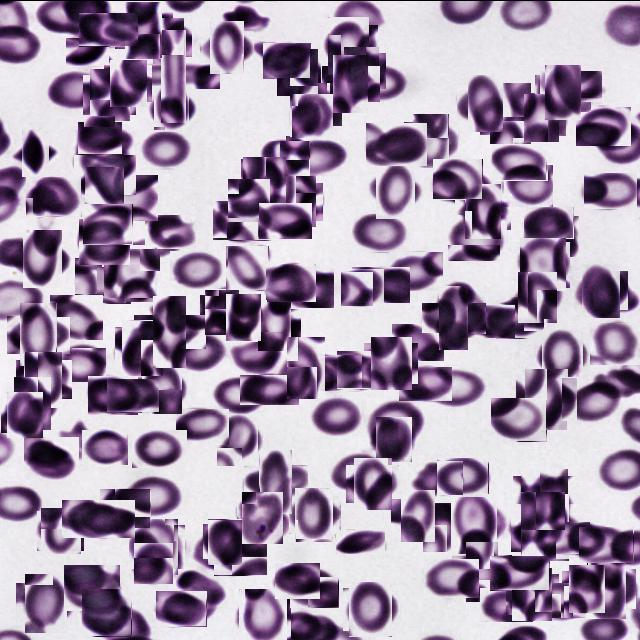red blood cell: (144, 46, 204, 104), (516, 498, 574, 556), (89, 174, 158, 220), (516, 471, 572, 527), (446, 496, 501, 552), (562, 376, 628, 420), (106, 246, 159, 299), (144, 304, 196, 358), (62, 499, 135, 537), (448, 214, 508, 260), (366, 122, 428, 166), (520, 372, 572, 424), (484, 86, 536, 138), (121, 474, 182, 518), (20, 578, 72, 628), (237, 590, 289, 640), (75, 257, 131, 303), (64, 564, 120, 610), (80, 148, 130, 199), (286, 135, 349, 175), (582, 563, 632, 613), (14, 308, 64, 358), (518, 239, 568, 289), (324, 20, 374, 70), (132, 521, 182, 571), (281, 342, 331, 392), (367, 400, 423, 444), (491, 397, 547, 441), (346, 584, 396, 633), (118, 322, 167, 372), (213, 200, 274, 240), (50, 292, 103, 338), (24, 434, 79, 478), (252, 456, 300, 506), (18, 234, 68, 282), (82, 588, 132, 636), (19, 354, 68, 402), (79, 218, 130, 264), (367, 338, 415, 386), (523, 215, 579, 256), (211, 376, 271, 414), (352, 213, 410, 252), (538, 332, 586, 379), (371, 166, 419, 213), (458, 547, 506, 594), (120, 6, 168, 53), (424, 368, 484, 405), (214, 416, 261, 463), (509, 570, 556, 617), (430, 294, 478, 340), (556, 521, 614, 559), (26, 176, 81, 216), (279, 267, 334, 307), (173, 330, 228, 370), (576, 104, 631, 144), (387, 251, 443, 290), (422, 558, 478, 597), (290, 491, 337, 537), (310, 394, 364, 434), (230, 332, 284, 372), (79, 126, 133, 166), (170, 250, 226, 288), (139, 365, 185, 411), (408, 116, 454, 162), (460, 188, 506, 234), (86, 71, 132, 117), (242, 157, 288, 203), (578, 266, 624, 312), (514, 274, 560, 320), (350, 460, 396, 506), (540, 69, 586, 115), (462, 79, 508, 125), (328, 60, 374, 106), (590, 322, 640, 364), (502, 164, 552, 206), (490, 555, 550, 590), (336, 350, 391, 388), (352, 266, 410, 302), (437, 457, 489, 497), (10, 379, 55, 425), (140, 130, 194, 168), (132, 429, 186, 467), (83, 203, 133, 244), (433, 158, 483, 199), (100, 488, 151, 528), (79, 12, 139, 46), (579, 526, 634, 563), (49, 72, 107, 107), (276, 48, 320, 94), (540, 70, 603, 102), (496, 296, 544, 338), (492, 144, 547, 180), (457, 302, 515, 336), (330, 455, 383, 492), (305, 355, 361, 390), (352, 65, 408, 100), (88, 375, 138, 414), (174, 408, 228, 444), (582, 172, 636, 208), (205, 25, 249, 69), (420, 505, 464, 549), (276, 178, 320, 222), (38, 508, 82, 552), (298, 81, 342, 125), (226, 245, 269, 290), (392, 323, 444, 360), (290, 568, 339, 607), (259, 202, 312, 238), (260, 140, 310, 178), (266, 263, 316, 301), (214, 540, 268, 575), (253, 303, 296, 346), (291, 94, 334, 137), (106, 62, 150, 104), (156, 590, 207, 626), (396, 494, 439, 536), (399, 366, 452, 400), (480, 587, 533, 621), (107, 378, 160, 412), (240, 374, 299, 404), (446, 171, 495, 207), (341, 49, 383, 91), (566, 567, 608, 609), (521, 96, 563, 138), (145, 214, 196, 248), (412, 460, 463, 494), (538, 582, 586, 618), (263, 42, 311, 78), (4, 393, 45, 435), (222, 296, 264, 337), (228, 178, 271, 218), (82, 428, 129, 464), (522, 490, 564, 530), (134, 542, 174, 584), (341, 268, 385, 306), (374, 418, 414, 459), (58, 347, 106, 381), (275, 562, 320, 598), (202, 292, 242, 332), (152, 88, 192, 128), (524, 206, 574, 238), (206, 520, 246, 560), (150, 20, 188, 59), (435, 282, 476, 318), (16, 133, 54, 171), (81, 118, 119, 156), (66, 37, 109, 65), (336, 529, 385, 553)
ring: (240, 494, 286, 540)
